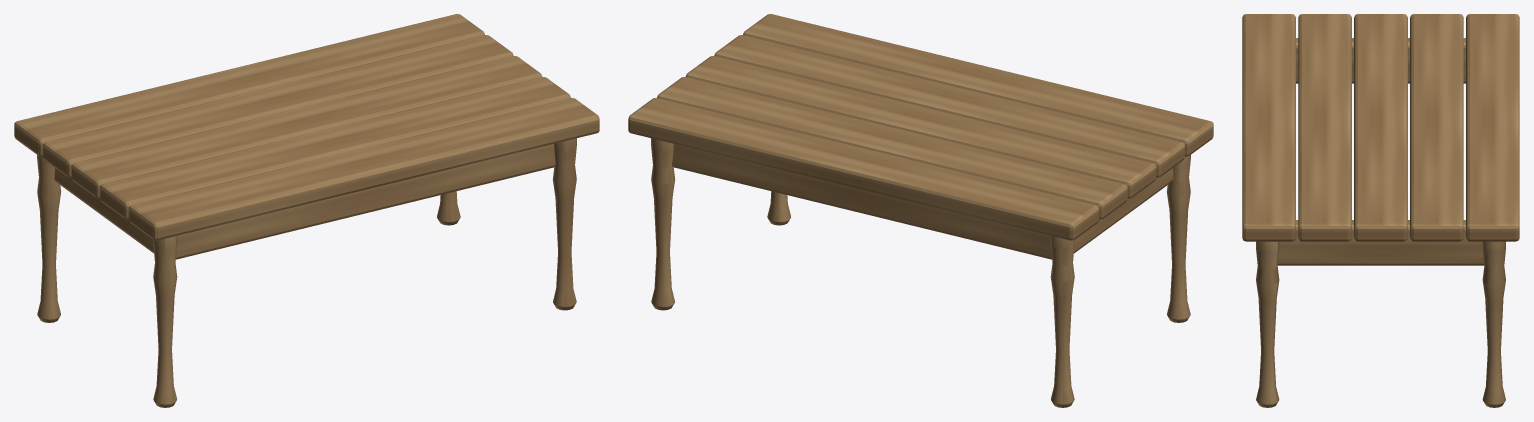
The model's file is table.glb.
3 renders of one model, left to right at view 1: azimuth 30°, elevation 25°; view 2: azimuth 150°, elevation 25°; view 3: azimuth 270°, elevation 25°, orthographic. The views are drawn at different scales.
Parts seen in each view (by area): view 1: top_0, top_1, top_2, top_3, top_4, apron.002, turned_leg, turned_leg.002, turned_leg.001, apron, turned_leg.003; view 2: top_4, top_3, top_1, top_2, top_0, apron.003, turned_leg.001, turned_leg.003, turned_leg, apron, turned_leg.002; view 3: top_0, top_4, top_1, top_2, top_3, apron.001, turned_leg.002, turned_leg.003, apron.
Part boxes in pixels (x1=…): top_0: x1=128, y1=98, x2=599, y2=240; top_1: x1=100, y1=77, x2=570, y2=219; top_2: x1=71, y1=56, x2=542, y2=198; top_3: x1=43, y1=35, x2=513, y2=177; top_4: x1=14, y1=14, x2=484, y2=156; apron.002: x1=175, y1=144, x2=555, y2=259; turned_leg: x1=153, y1=236, x2=177, y2=407; turned_leg.002: x1=552, y1=138, x2=576, y2=310; turned_leg.001: x1=37, y1=155, x2=61, y2=322; apron: x1=54, y1=168, x2=153, y2=253; turned_leg.003: x1=437, y1=191, x2=460, y2=225; top_4: x1=628, y1=98, x2=1099, y2=240; top_3: x1=657, y1=77, x2=1127, y2=219; top_1: x1=714, y1=35, x2=1184, y2=177; top_2: x1=685, y1=56, x2=1156, y2=198; top_0: x1=743, y1=14, x2=1213, y2=156; apron.003: x1=672, y1=144, x2=1052, y2=259; turned_leg.001: x1=1050, y1=236, x2=1074, y2=407; turned_leg.003: x1=651, y1=138, x2=675, y2=310; turned_leg: x1=1166, y1=155, x2=1190, y2=322; apron: x1=1074, y1=168, x2=1173, y2=253; turned_leg.002: x1=767, y1=191, x2=790, y2=225; top_0: x1=1242, y1=14, x2=1295, y2=241; top_4: x1=1466, y1=14, x2=1519, y2=241; top_1: x1=1298, y1=14, x2=1351, y2=241; top_2: x1=1354, y1=14, x2=1407, y2=241; top_3: x1=1410, y1=14, x2=1463, y2=241; apron.001: x1=1277, y1=220, x2=1484, y2=265; turned_leg.002: x1=1256, y1=241, x2=1279, y2=407; turned_leg.003: x1=1482, y1=241, x2=1505, y2=407; apron: x1=1296, y1=38, x2=1465, y2=83.
Size of the model in its own units: 1.8 by 0.75 by 0.992.
2 materials, 2 textured.
